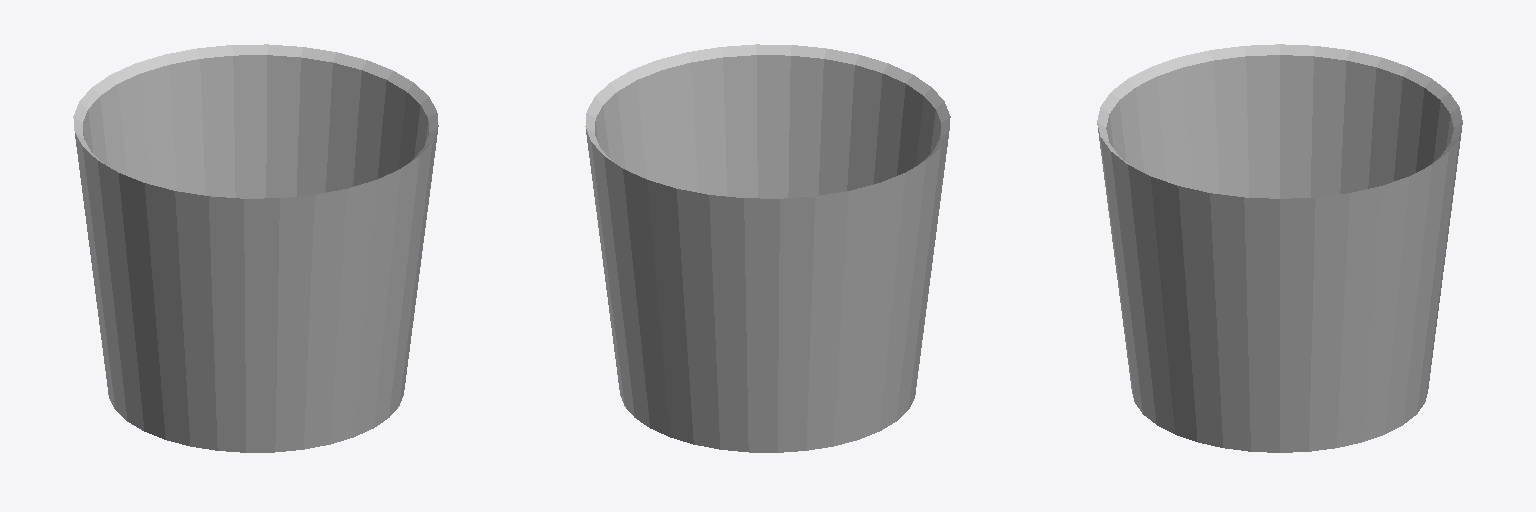
Rendered from basket.obj.
The picture shows the model from 3 angles: view 1: azimuth 30°, elevation 25°; view 2: azimuth 150°, elevation 25°; view 3: azimuth 270°, elevation 25°; orthographic projection.
Parts seen in each view (by area): view 1: Cylinder_Cylinder.002; view 2: Cylinder_Cylinder.002; view 3: Cylinder_Cylinder.002.
Boxes of the visible parts, box(x1,y1,x2,y2) form: Cylinder_Cylinder.002: box(73, 44, 438, 452); Cylinder_Cylinder.002: box(585, 44, 950, 452); Cylinder_Cylinder.002: box(1097, 44, 1462, 452).
Bounding box in the file's own units: 0.0772 × 0.0626 × 0.0772.